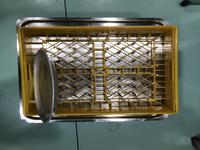Dish: (33, 48, 58, 124)
